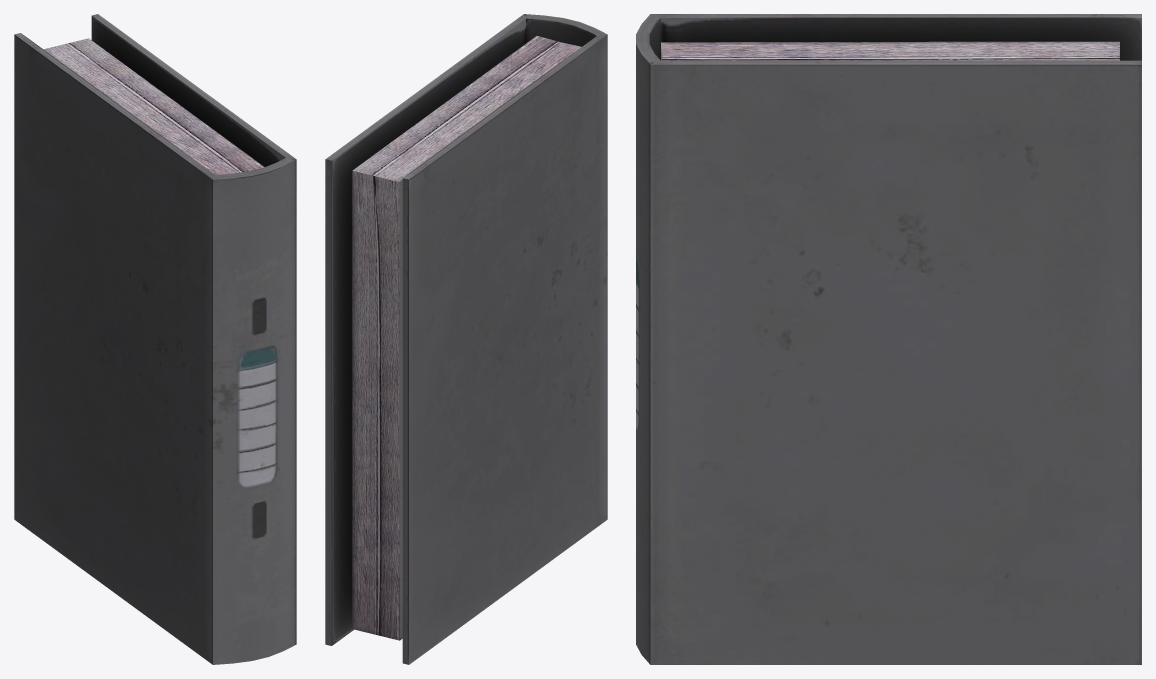
The model's file is binder.DAE.
3 renders of one model, left to right at view 1: azimuth 30°, elevation 25°; view 2: azimuth 150°, elevation 25°; view 3: azimuth 270°, elevation 25°, orthographic. The views are drawn at different scales.
Parts seen in each view (by area): view 1: binder; view 2: binder; view 3: binder.
Boxes of the visible parts, x1=… form: binder: x1=14, y1=14, x2=296, y2=664; binder: x1=325, y1=14, x2=607, y2=664; binder: x1=636, y1=14, x2=1141, y2=664.
Bounding box in the file's own units: 0.053 × 0.2935 × 0.2241.
